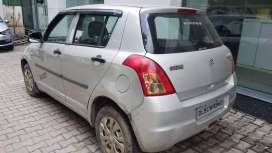nameplate: (196, 93, 228, 121)
